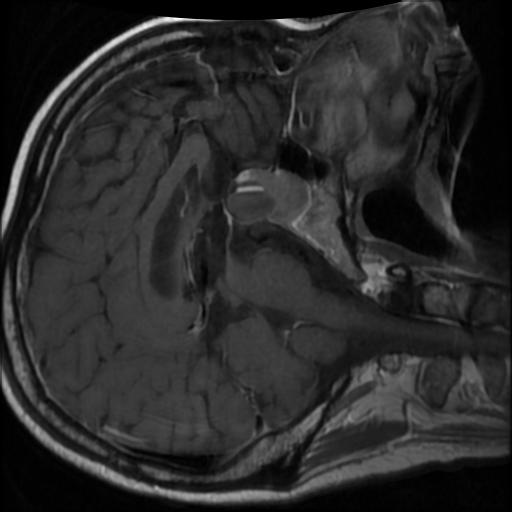pituitary tumour: (222, 170, 307, 227)
